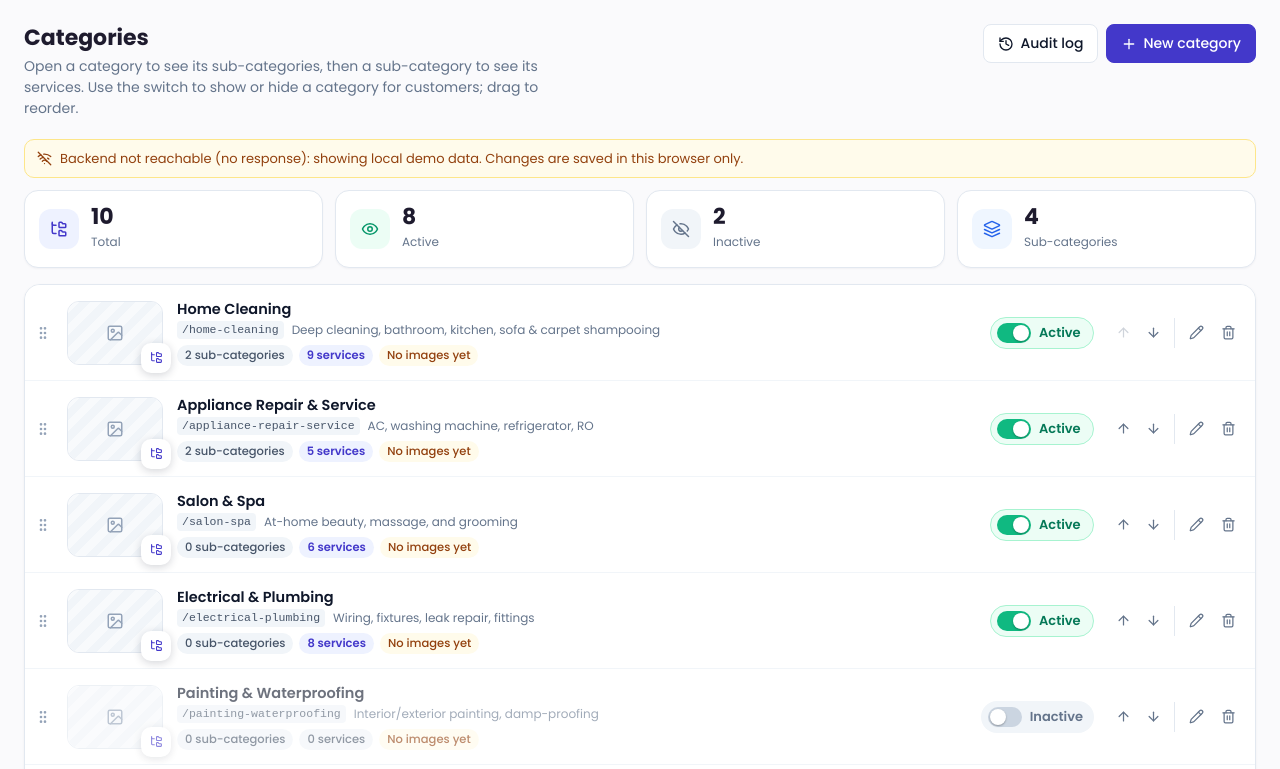
Test case: Admin categories page › drills from a parent category to its sub-categories and then to their services
The image size is (1280, 769).
Expected: the text "Home Cleaning" is shown, [177,299,291,321]
Expected: the text "Bathroom Cleaning" is not shown
Click the button with aria-label "Open Home Cleaning": (419, 333) [177,299,660,366]
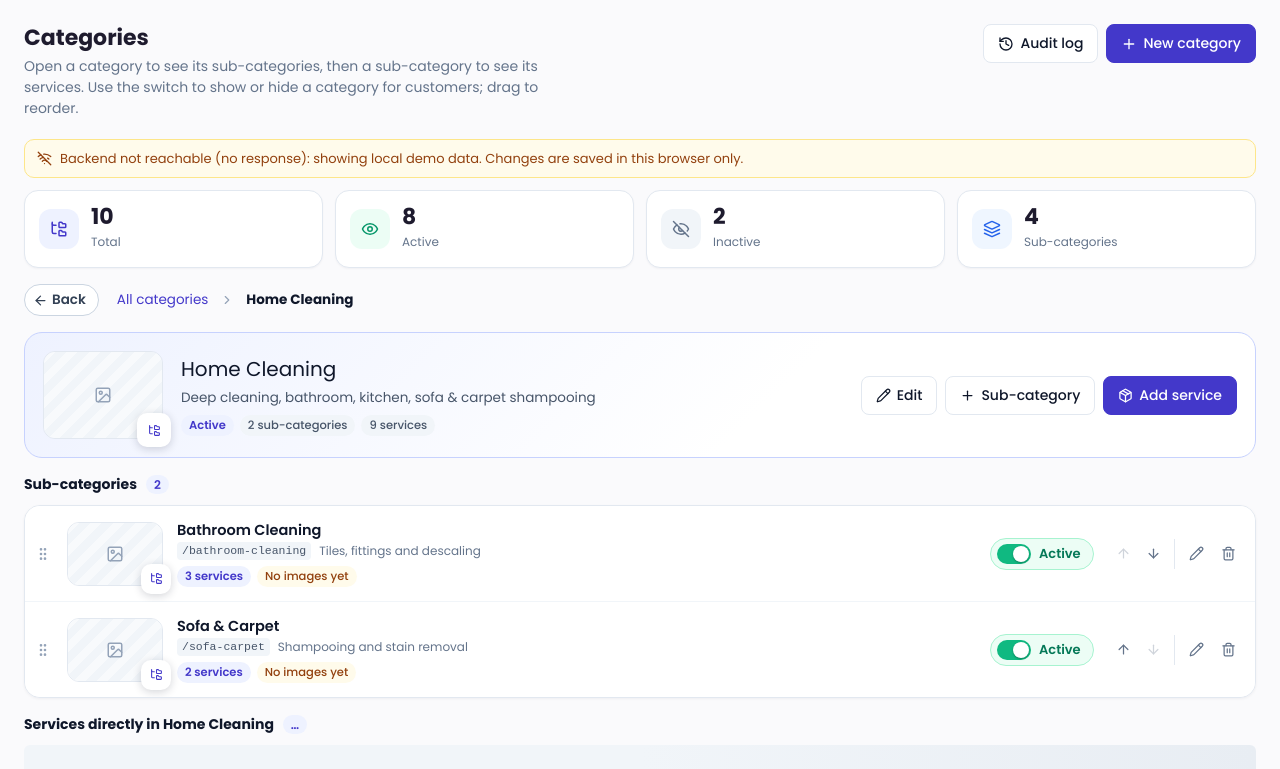
Expected: the text "Bathroom Cleaning" is shown, [177,520,321,542]
Expected: the text "Sofa & Carpet" is shown, [177,616,279,638]
Click the button with aria-label "Open Bathroom Cleaning": (329, 554) [177,520,481,587]
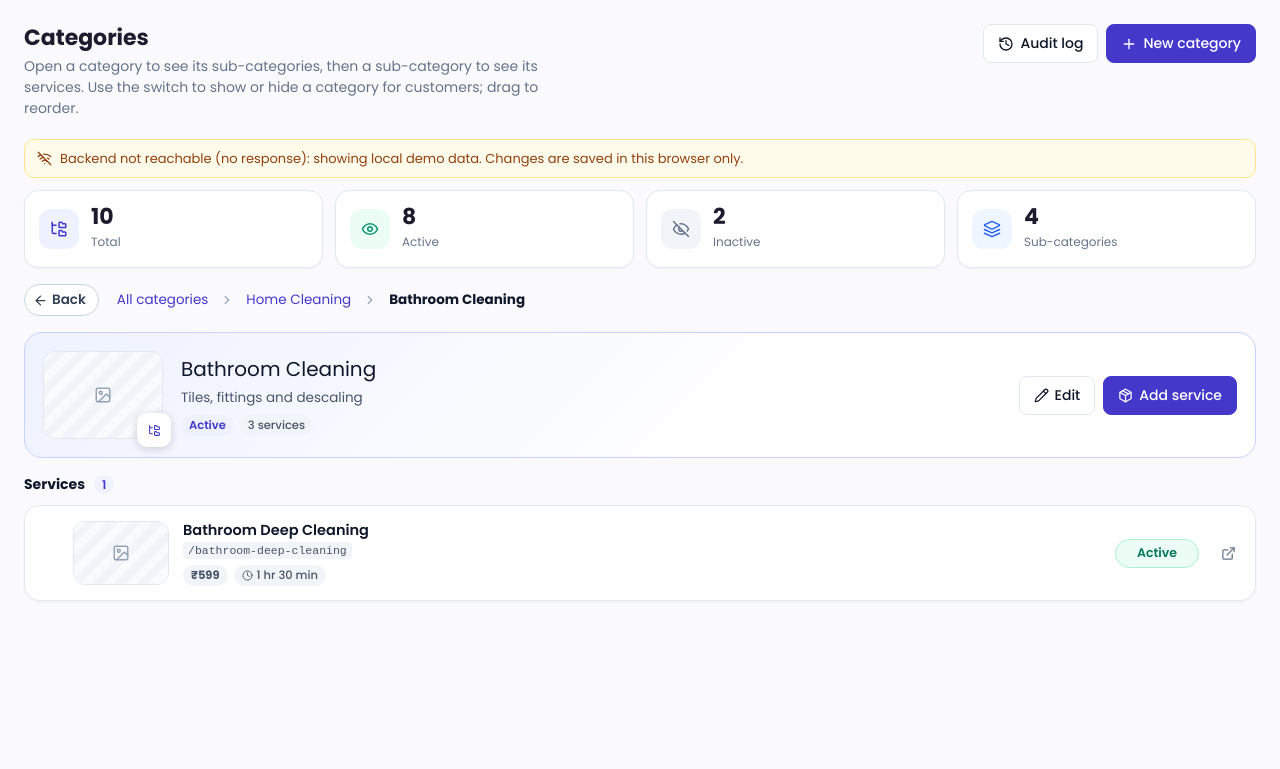
Expected: the text "Bathroom Deep Cleaning" is shown, [183,520,369,542]
Click the button "Back": (61, 300) [24,284,99,316]
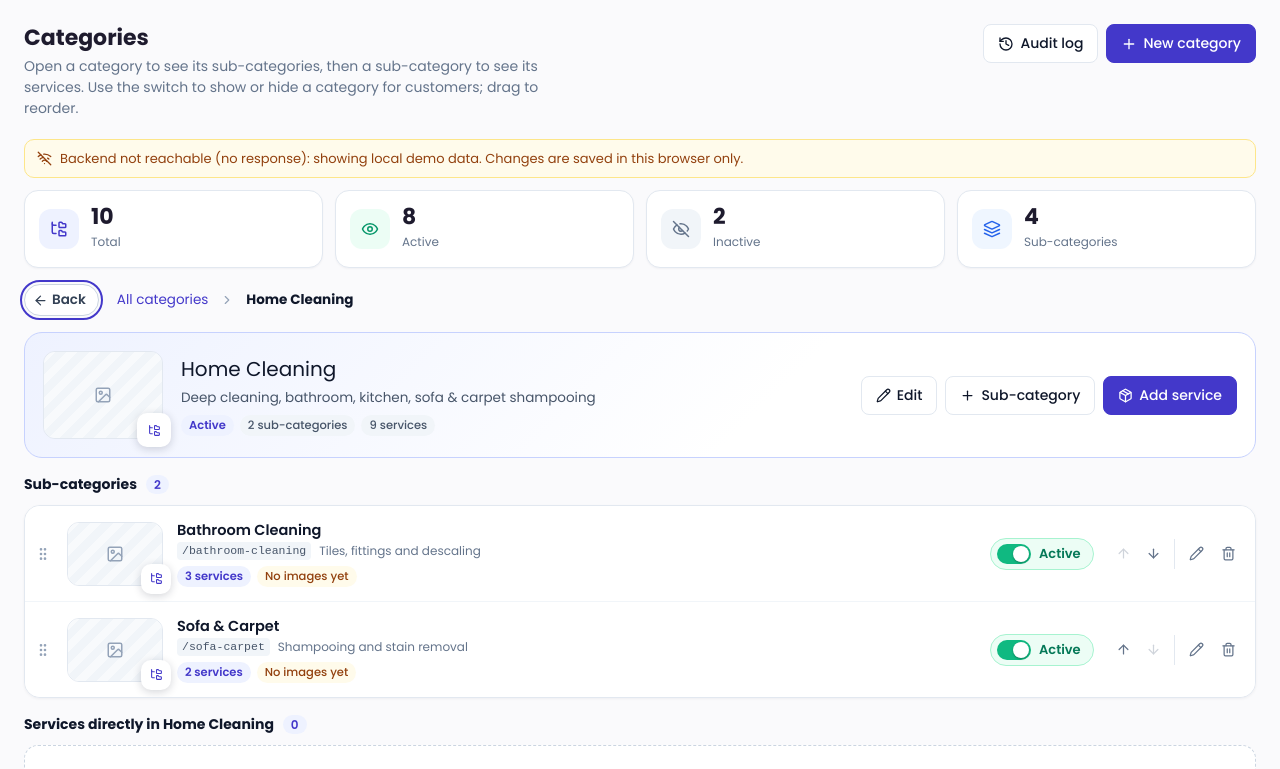
Expected: the text "Sofa & Carpet" is shown, [177,616,279,638]
